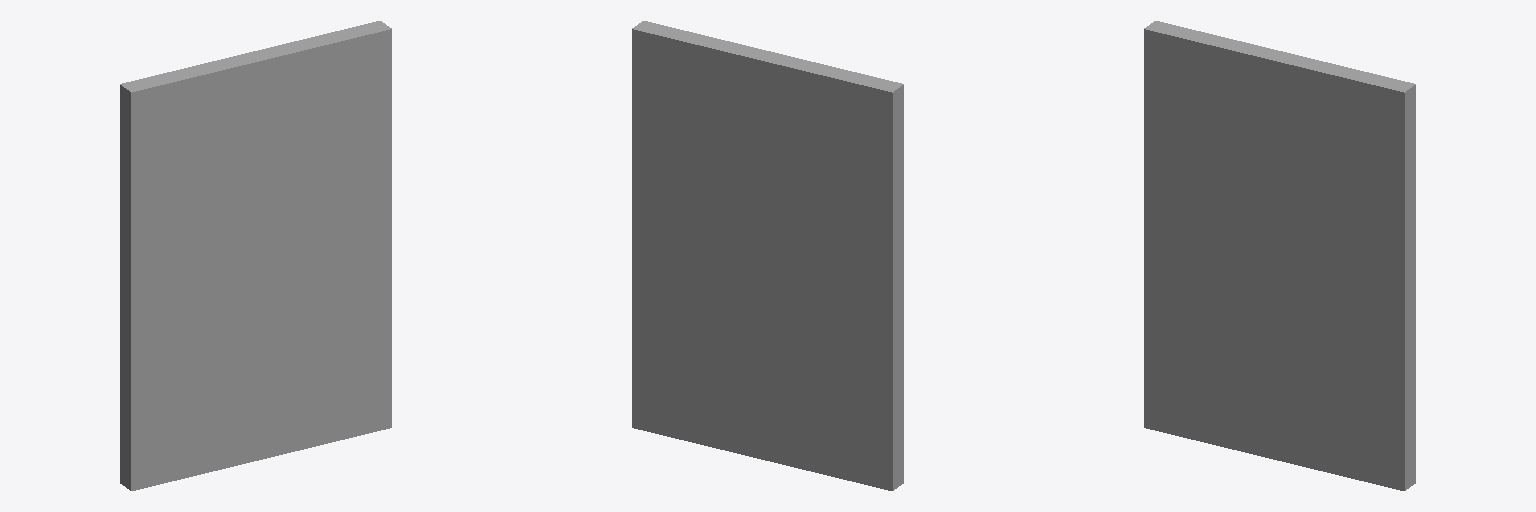
robot.urdf — box2:
<robot name="box2">
  <link name="box2_base_link">
    <visual>
      <origin rpy="0 0 3.14159" xyz="0.2 -0.52 -0.16"/>
      <geometry>
        <mesh filename="../meshes/box2.obj"  scale="0.0005 0.0005 0.0005"/>
      </geometry>
      <material name="tray_material">
        <color rgba="0.7 0.7 0.7 1"/>
      </material>
    </visual>
    <collision>
      <origin rpy="0 0 3.14159" xyz="0.2 -0.52 -0.16"/>
      <geometry>
        <mesh filename="../meshes/box2.obj" scale="0.0005 0.0005 0.0005"/>
      </geometry>
    </collision>
  </link>
</robot>

--- What the picture shows (computed from the rendered views, not written in the file) ---
3 views of the same robot in one strip: view 1: azimuth 30°, elevation 25°; view 2: azimuth 150°, elevation 25°; view 3: azimuth 330°, elevation 25° (orthographic).
Model box2 with 1 links and 0 joints (none), rooted at box2_base_link, posed every joint at zero.
Links seen in each view (by area): view 1: box2_base_link; view 2: box2_base_link; view 3: box2_base_link.
Boxes of the visible links, box(x1,y1,x2,y2) form: box2_base_link: box(120, 21, 391, 490); box2_base_link: box(632, 21, 903, 490); box2_base_link: box(1144, 21, 1415, 490).
Bounding box of the posed robot: 0.325 × 0.025 × 0.475 m (x, y, z).
1 mesh visuals loaded from 1 distinct referenced files (1 OBJ).